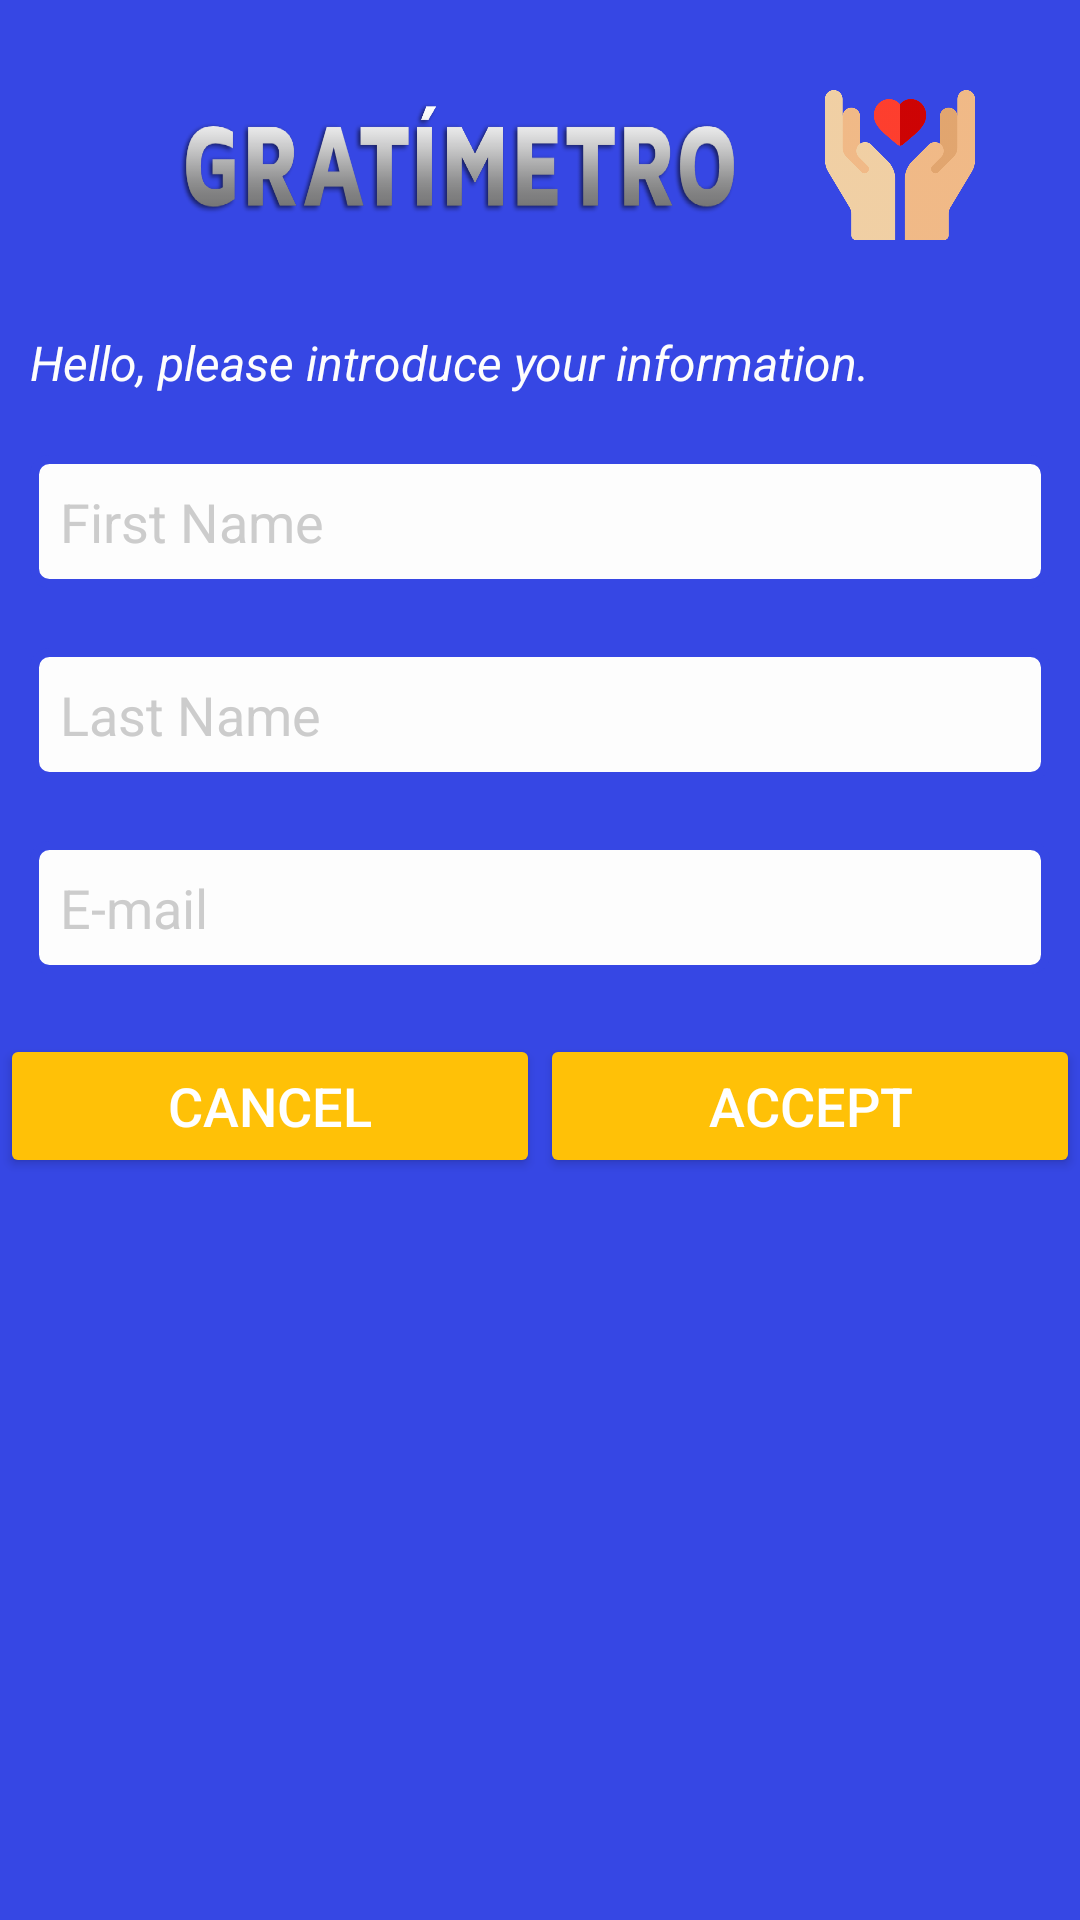

Screen size 1080 × 1920. Icon name, then its center in pixels as (x=x, y=y):
hands: (x=900, y=165)
